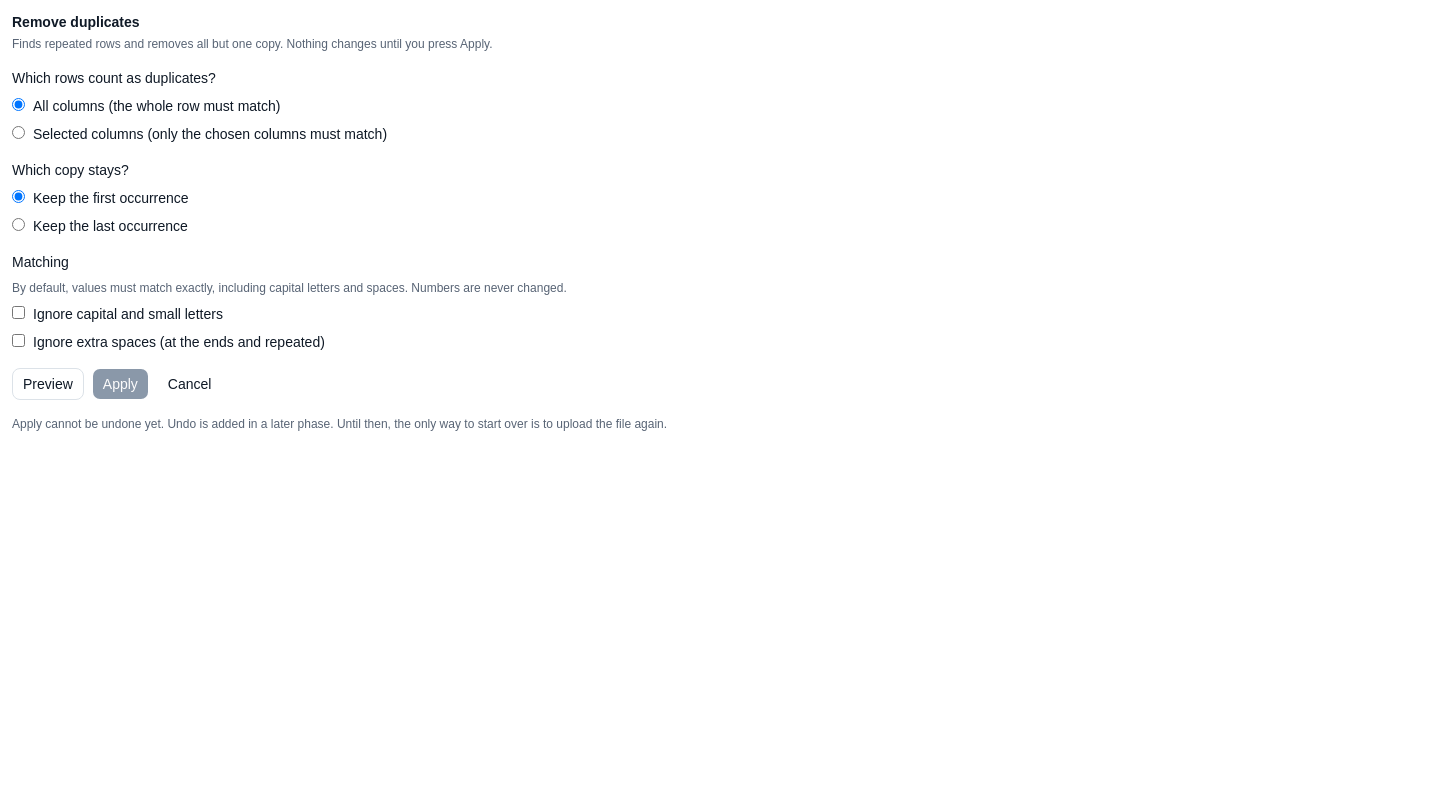
Test: DuplicatesPanel: settings › needs at least one column when comparing selected columns
Click the radio button labelled "Selected columns (only the chosen columns must match)". click: (18, 132)
box: left=12, top=126, right=25, bottom=139
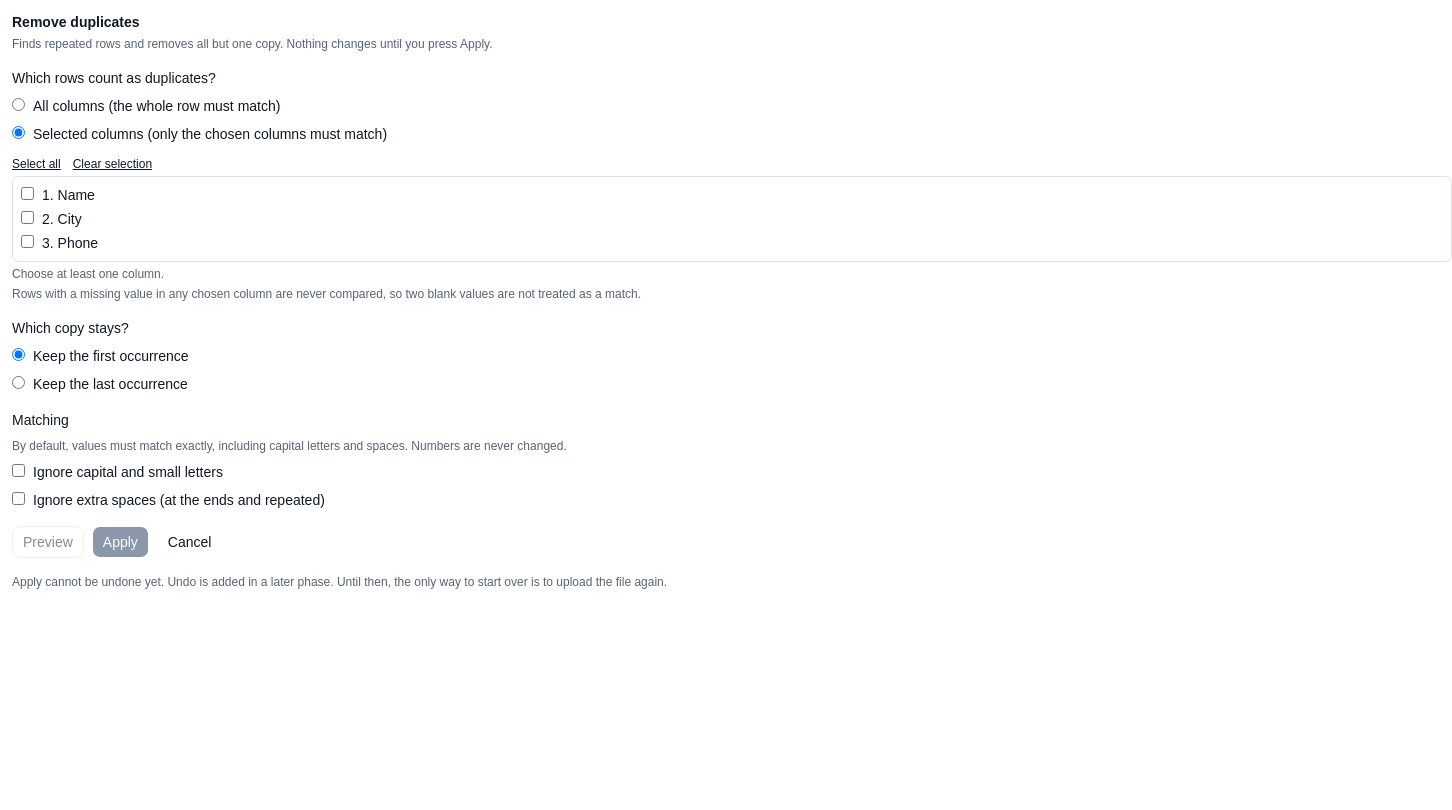
Now the text "Choose at least one column." is shown, box left=12, top=267, right=164, bottom=281
Now the button "Preview" is disabled, box left=12, top=526, right=84, bottom=558
Click the checkbox labelled "2. City". click: (28, 218)
box: left=21, top=211, right=34, bottom=224
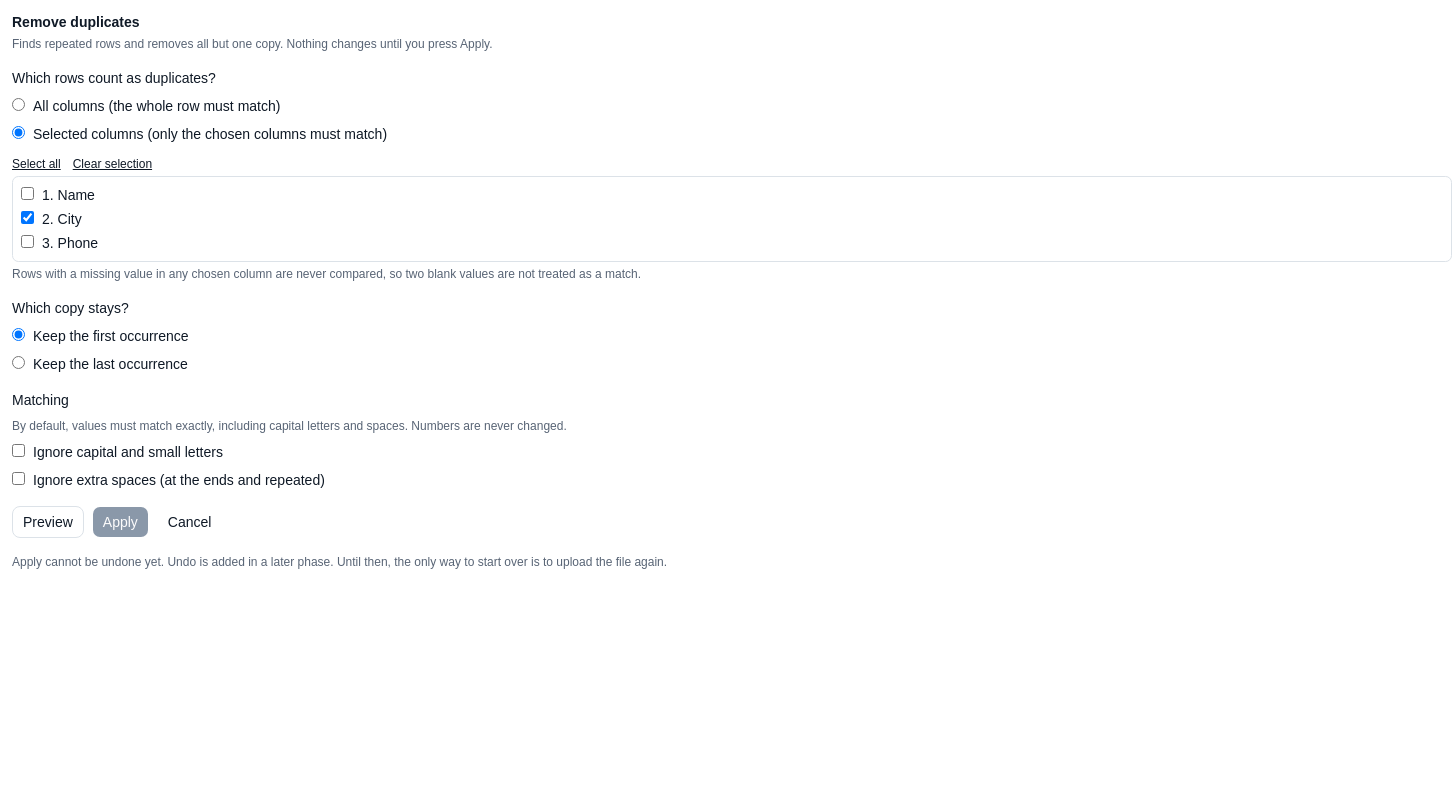
Now the text "Choose at least one column." is gone
Now the button "Preview" is enabled, box left=12, top=506, right=84, bottom=538
